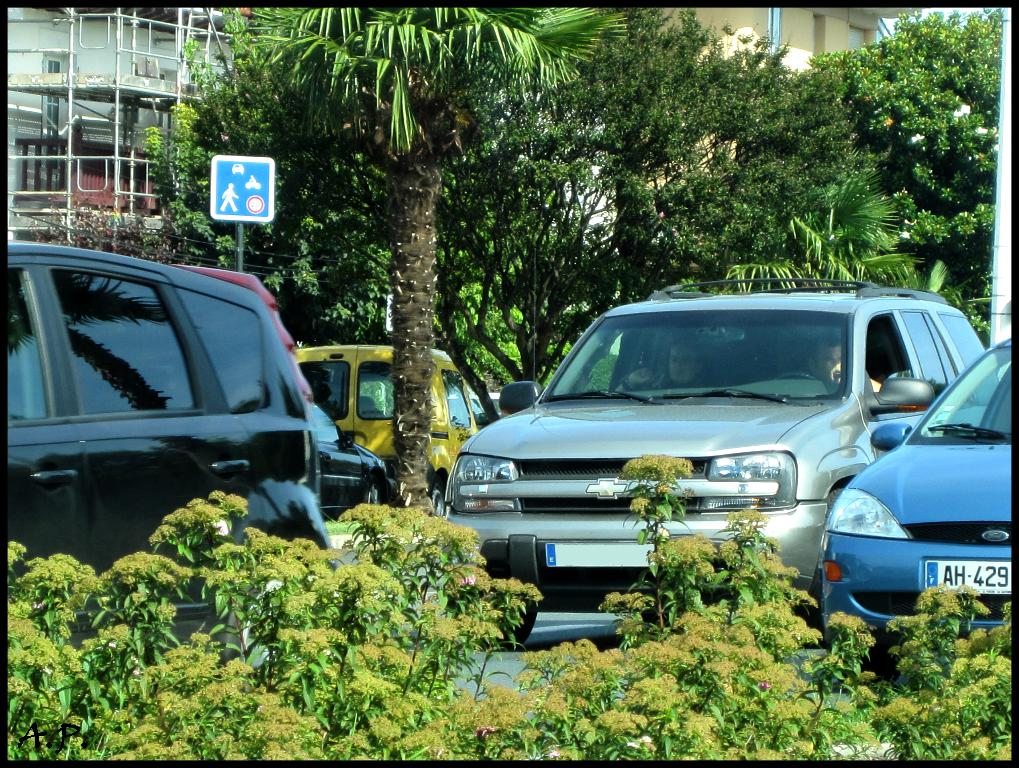cars: (443, 288, 981, 638), (7, 245, 315, 625), (818, 338, 1015, 637), (298, 341, 474, 473), (314, 407, 405, 520)
